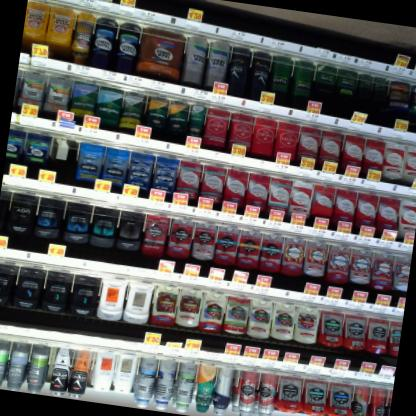empty_space: (46, 137, 79, 185)
